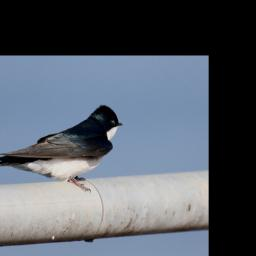Swallow: (0, 104, 123, 193)
